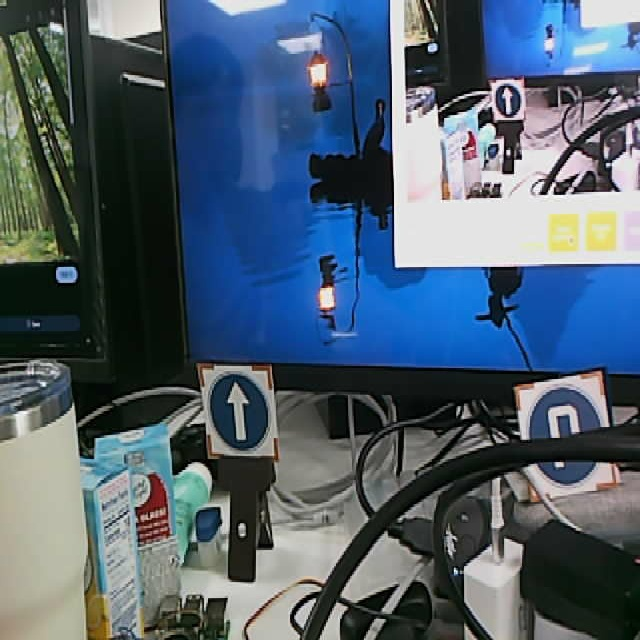parking: (514, 371, 621, 500)
straight: (197, 363, 281, 465), (490, 74, 527, 123)
